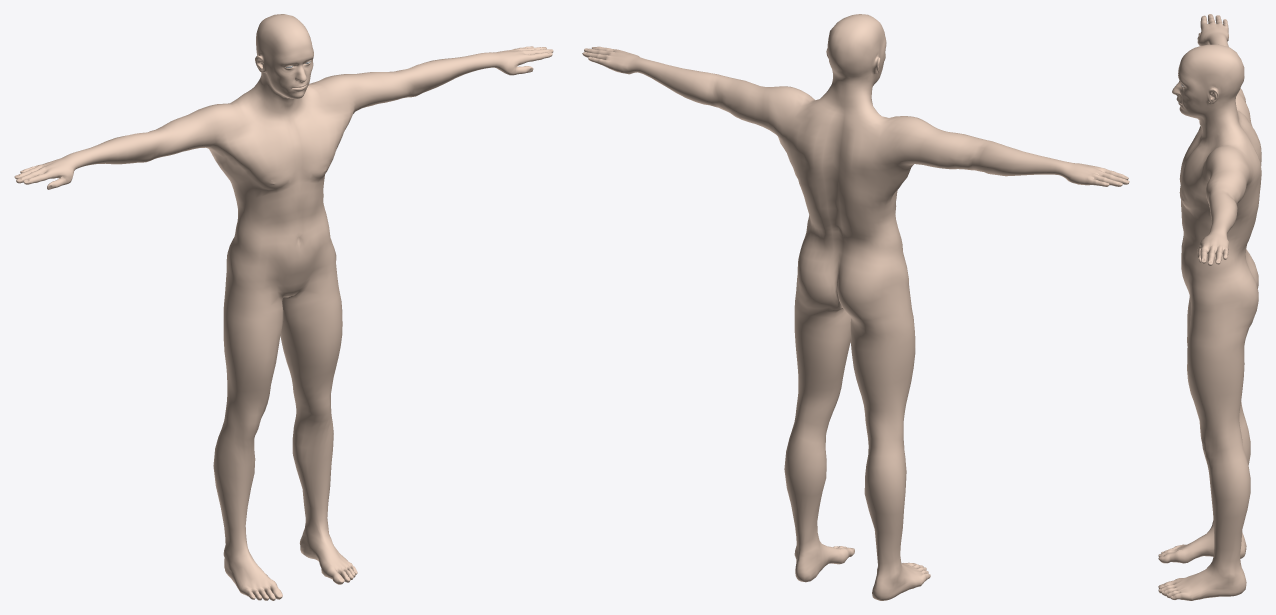
Rendered from human.glb.
The picture shows the model from 3 angles, left to right: view 1: azimuth 30°, elevation 25°; view 2: azimuth 150°, elevation 25°; view 3: azimuth 270°, elevation 25°; orthographic projection. The views are drawn at different scales.
Visible parts, largest first — view 1: mh-base; view 2: mh-base; view 3: mh-base.
Boxes of the visible parts, <box> form: mh-base: <box>14,14,553,600</box>; mh-base: <box>582,14,1129,600</box>; mh-base: <box>1158,14,1261,600</box>.
Bounding box in the file's own units: 1.9 × 1.88 × 0.3309.
